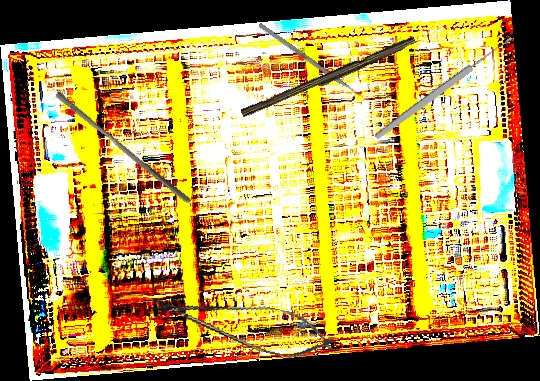Micro Scissor: (141, 282, 343, 367)
Pusher: (51, 90, 196, 205), (257, 22, 372, 105)
Scalpel Handle: (240, 33, 418, 123)
Surgical Spoon: (373, 34, 515, 142)
